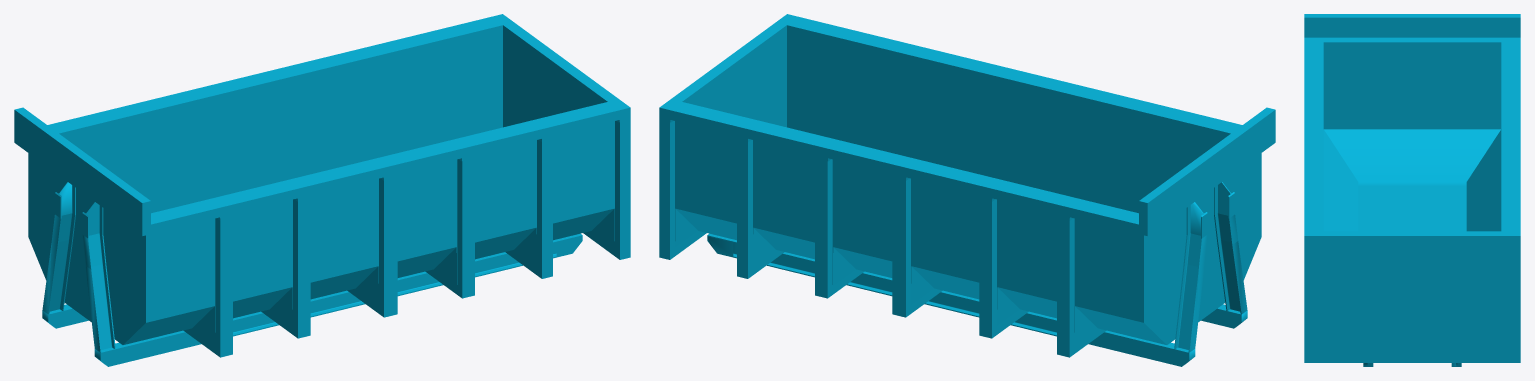
3 views of the same model, side by side, from view 1: azimuth 30°, elevation 25°; view 2: azimuth 150°, elevation 25°; view 3: azimuth 270°, elevation 25° (orthographic). The views are drawn at different scales.
Visible parts, largest first — view 1: Cube, SINA.002; view 2: Cube, SINA.002; view 3: Cube.
Boxes of the visible parts, left/top/right/bottom form: Cube: left=14, top=14, right=630, bottom=357; SINA.002: left=42, top=182, right=582, bottom=366; Cube: left=659, top=14, right=1275, bottom=357; SINA.002: left=707, top=182, right=1247, bottom=366; Cube: left=1304, top=14, right=1520, bottom=362.
Size of the model in its own units: 619 by 227 by 277.
